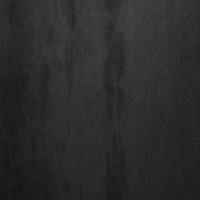inclusion: (102, 5, 134, 196), (56, 4, 87, 111), (33, 55, 58, 129)
